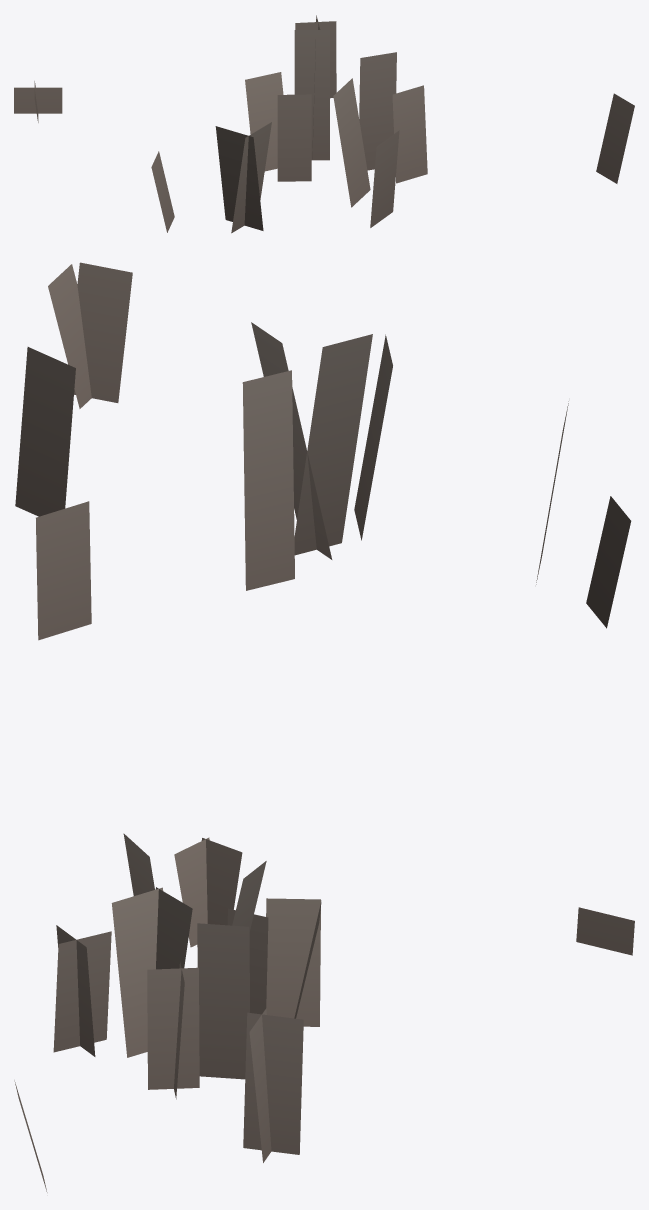
File: leaf_pile_v2.glb
3 views of the same model, one above another, from view 1: azimuth 30°, elevation 25°; view 2: azimuth 150°, elevation 25°; view 3: azimuth 270°, elevation 25° (orthographic). The views are drawn at different scales.
Parts seen in each view (by area): view 1: world; view 2: world; view 3: world.
Boxes of the visible parts, x1,y1,x2,y2 form: world: [14, 15, 634, 233]; world: [15, 262, 631, 640]; world: [14, 833, 634, 1192].
Bounding box in the file's own units: 1 × 0.3286 × 0.9581.
